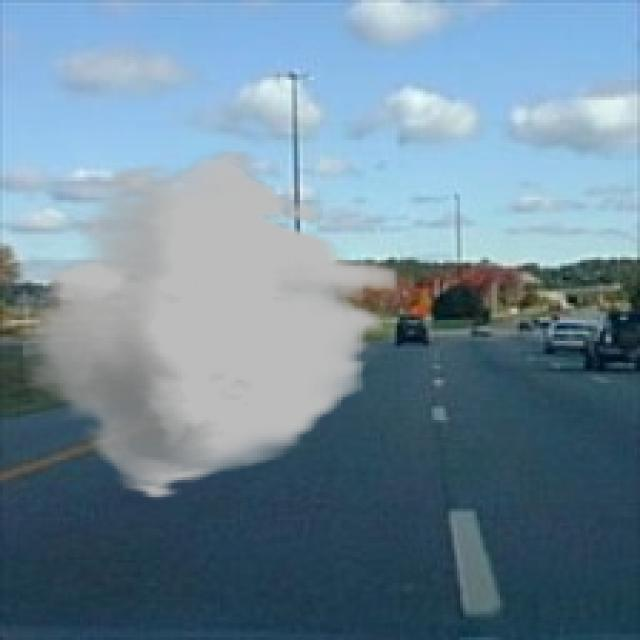Smoke: (22, 148, 398, 501)
